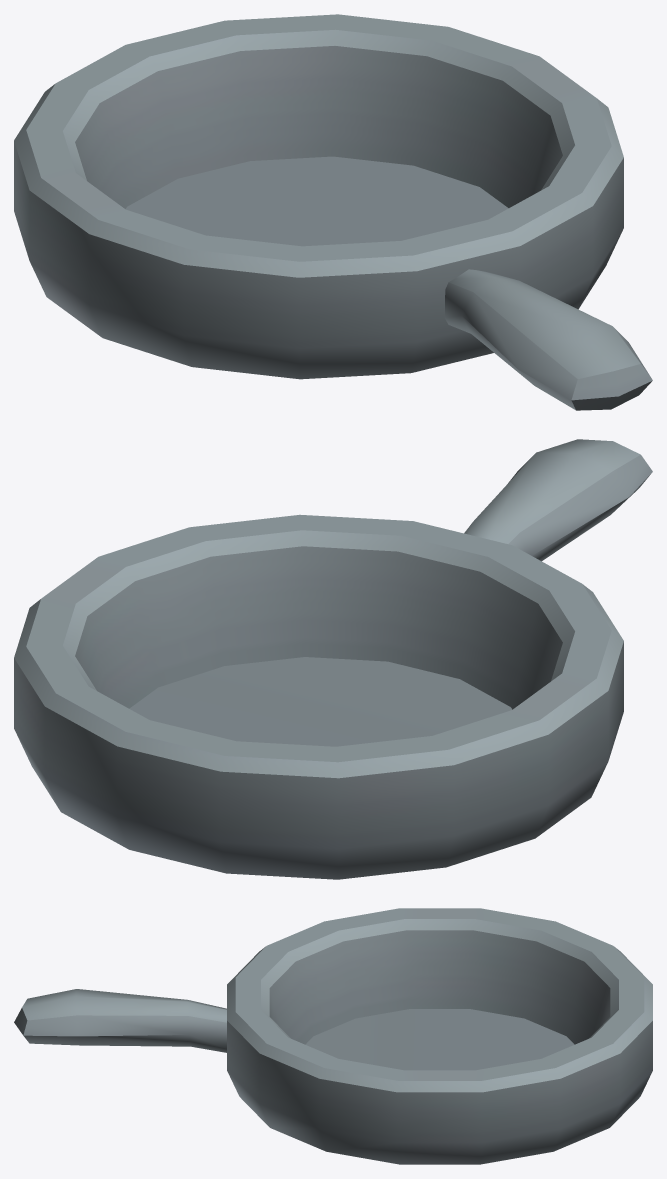
The model's file is stekpanna.glb.
3 views of the same model, one above another, from view 1: azimuth 30°, elevation 25°; view 2: azimuth 150°, elevation 25°; view 3: azimuth 270°, elevation 25° (orthographic). The views are drawn at different scales.
Visible parts, largest first — view 1: pan_A; view 2: pan_A; view 3: pan_A.
Boxes of the visible parts, x1,y1,x2,y2 form: pan_A: (14, 14, 652, 410); pan_A: (14, 439, 652, 879); pan_A: (14, 908, 652, 1164).
Bounding box in the file's own units: 1 × 0.2499 × 1.5.
1 material, 1 textured.
